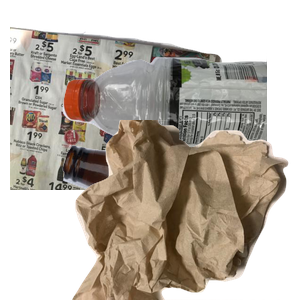glass: (60, 142, 300, 300)
paper: (10, 22, 225, 202)
plastic: (60, 53, 300, 201)
trash: (70, 120, 300, 300)
